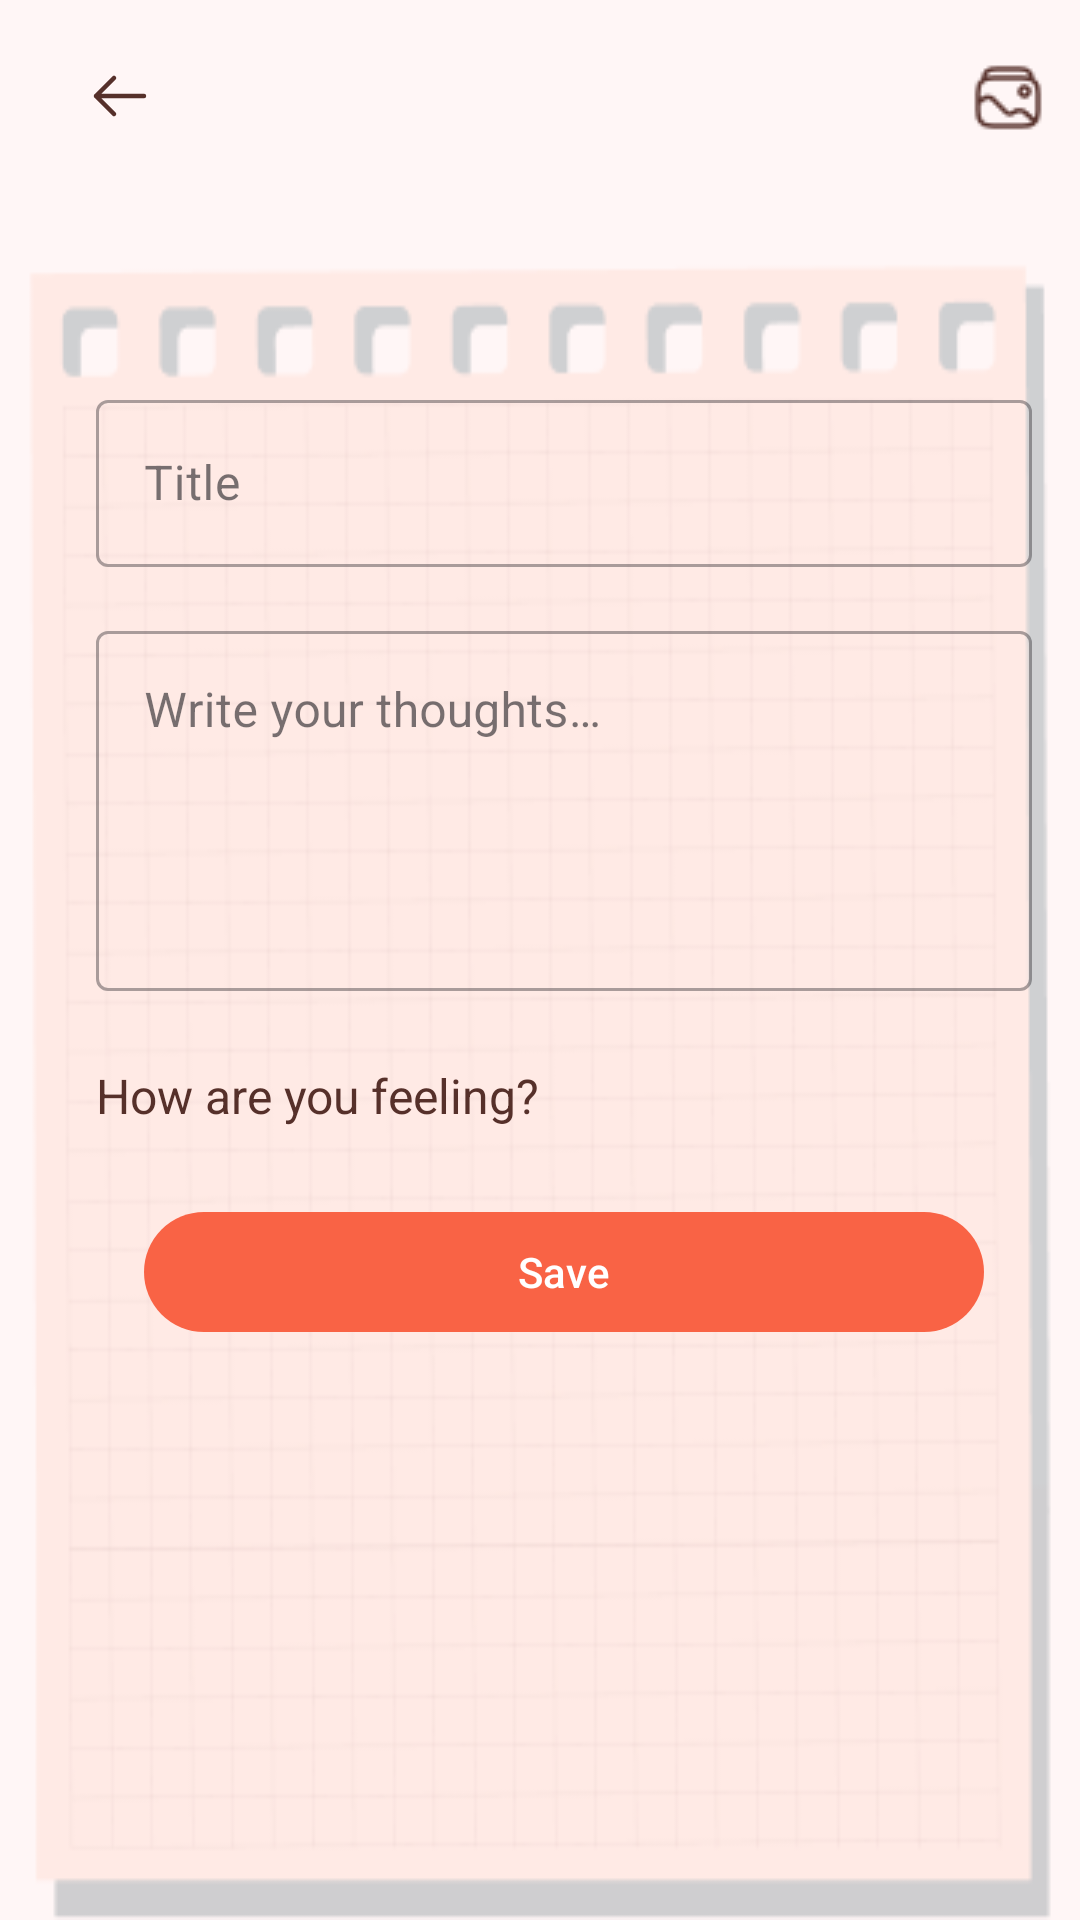

Where to tap for icons on this 1080 x 1920 app screen, as [x,y]:
Add Image: [1008,97]
Back: [119,96]
